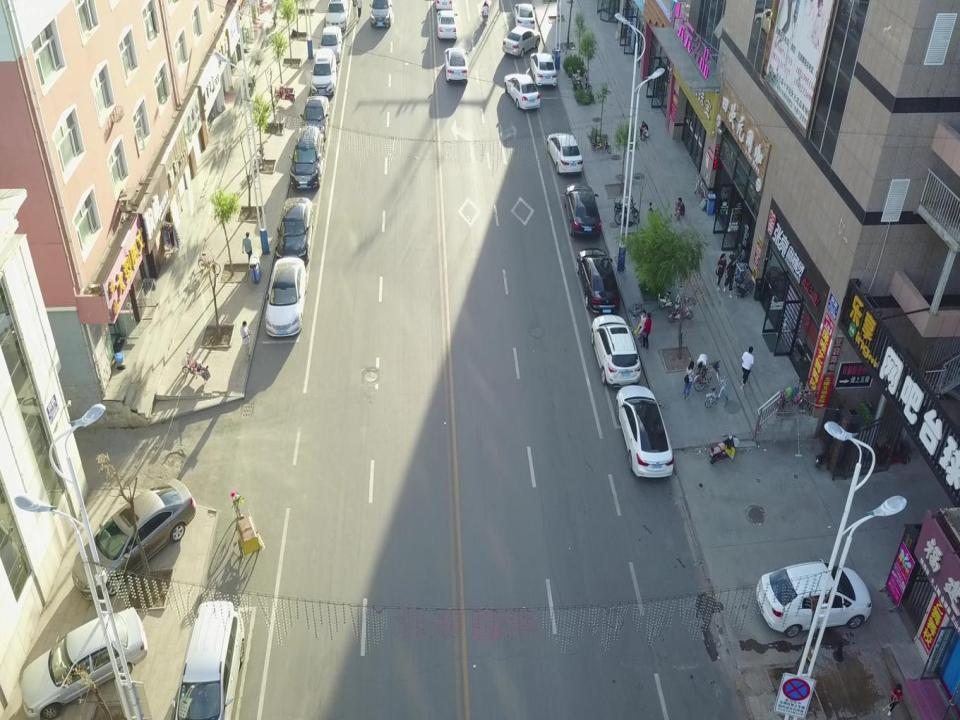car: (70, 474, 195, 600), (18, 605, 150, 719), (754, 553, 872, 639), (169, 597, 245, 720), (613, 383, 674, 480), (588, 312, 642, 390), (264, 256, 307, 338), (575, 247, 621, 316), (274, 195, 315, 261), (288, 124, 325, 191), (563, 181, 602, 238), (546, 132, 584, 175), (502, 72, 541, 111), (309, 47, 338, 99), (300, 94, 330, 144), (500, 23, 542, 58), (442, 46, 469, 85), (528, 52, 558, 86), (319, 26, 343, 64), (324, 0, 349, 32), (513, 2, 537, 31), (368, 0, 392, 29), (435, 10, 458, 40)
